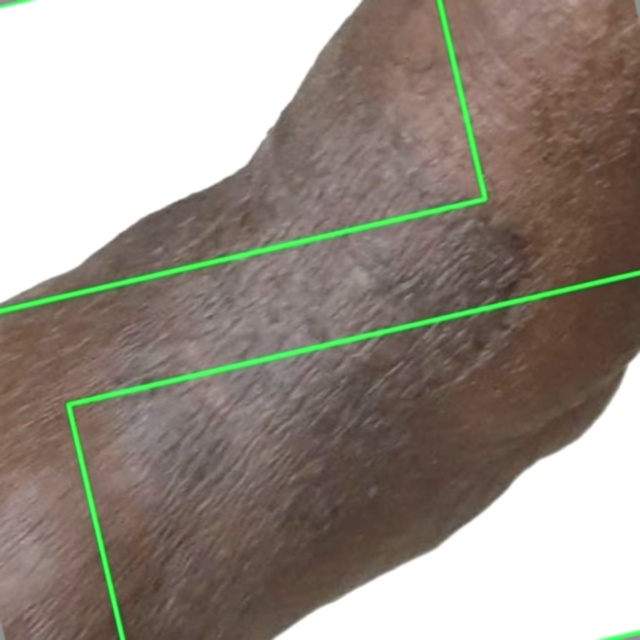Eczema: (68, 274, 639, 639), (0, 0, 485, 310)
